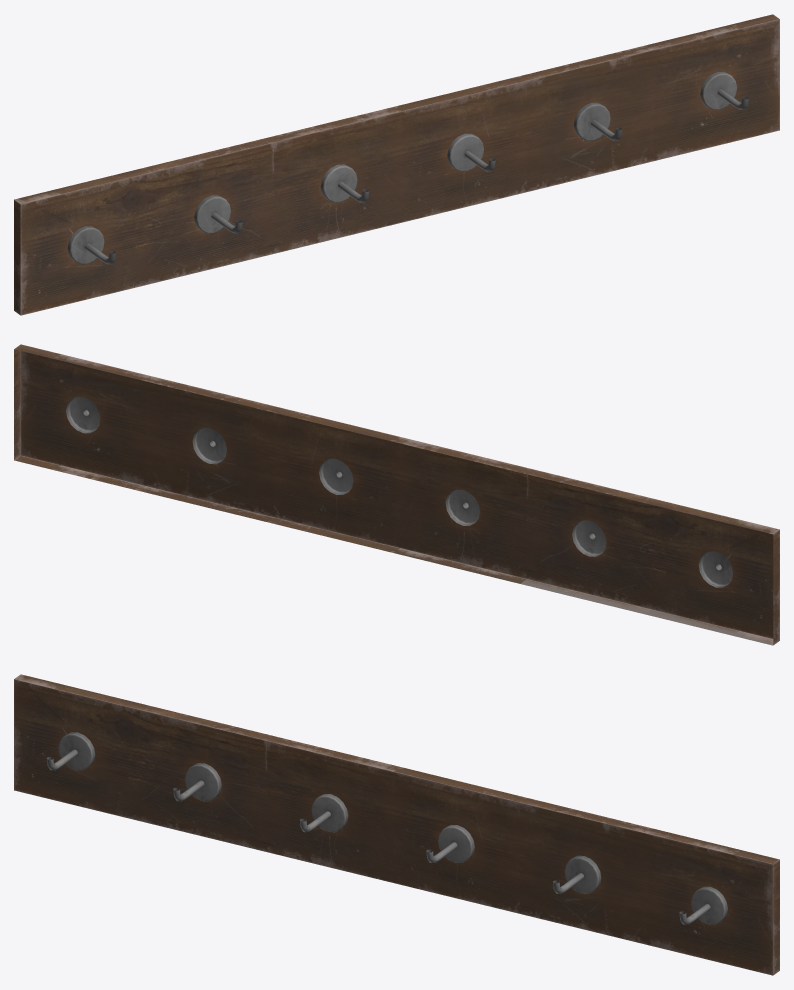
File: wooden_hook_rack.glb
3 renders of one model, top to bottom at view 1: azimuth 30°, elevation 25°; view 2: azimuth 150°, elevation 25°; view 3: azimuth 330°, elevation 25°, orthographic.
Visible parts, largest first — view 1: Object_4; view 2: Object_4; view 3: Object_4.
Part boxes in pixels (x1,y1,x2,y2): Object_4: [14, 14, 779, 315]; Object_4: [14, 344, 779, 645]; Object_4: [14, 674, 779, 975].
Size of the model in its own units: 1.44 by 0.2018 by 0.1198.
1 material, 1 textured.
